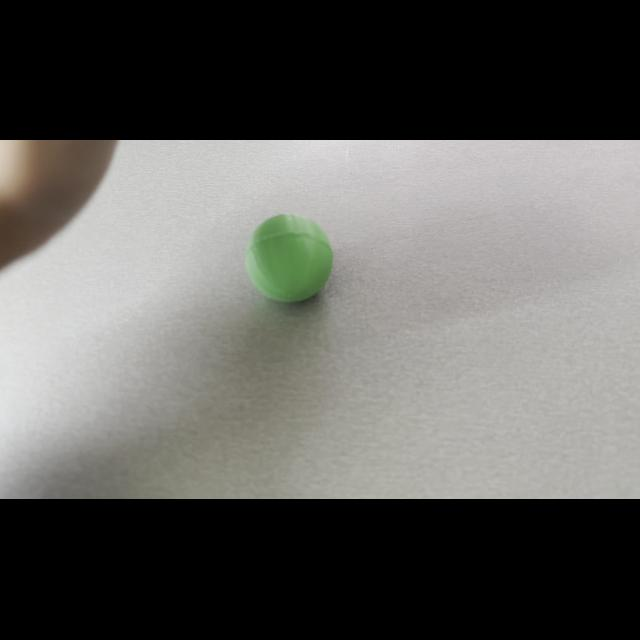objects: (241, 207, 341, 311)
